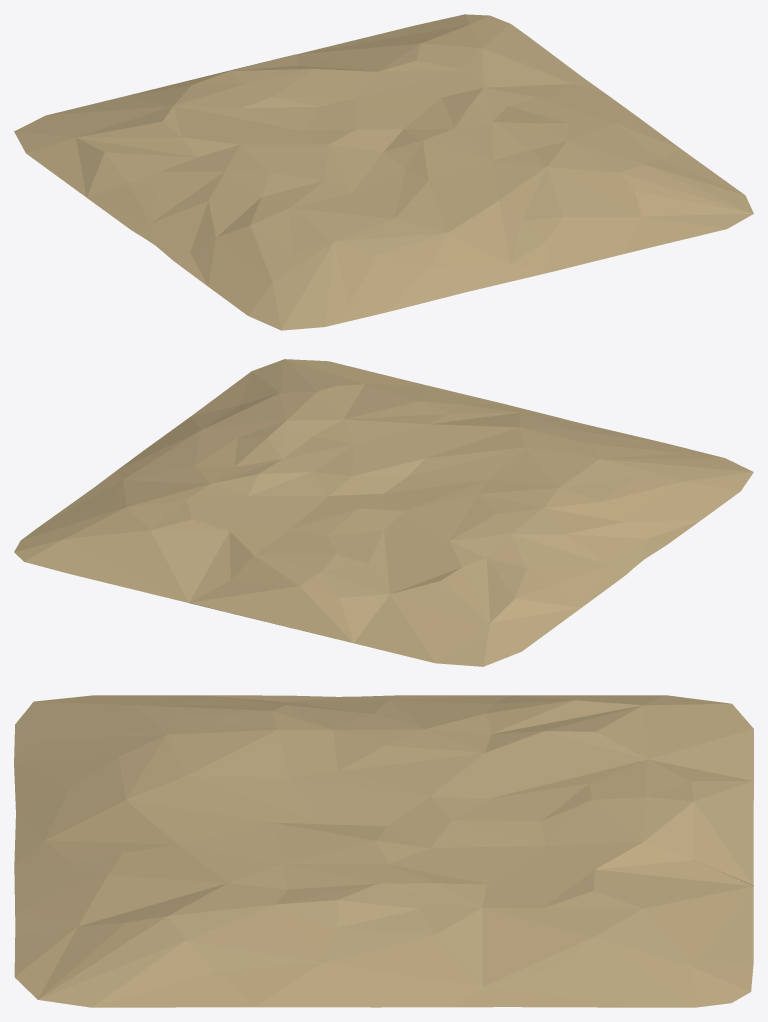
The model's file is SM_Env_Flat_Sand_01.glb.
The picture shows the model from 3 angles, top to bottom: view 1: azimuth 30°, elevation 25°; view 2: azimuth 150°, elevation 25°; view 3: azimuth 270°, elevation 25°; orthographic projection. The views are drawn at different scales.
Visible parts, largest first — view 1: SM_Env_Flat_Sand_01_part00; view 2: SM_Env_Flat_Sand_01_part00; view 3: SM_Env_Flat_Sand_01_part00.
Part boxes in pixels (x1,y1,x2,y2): SM_Env_Flat_Sand_01_part00: [14, 14, 753, 330]; SM_Env_Flat_Sand_01_part00: [14, 359, 753, 666]; SM_Env_Flat_Sand_01_part00: [14, 695, 753, 1007].
Size of the model in its own units: 7.54 by 0.4246 by 7.54.
1 material, 1 textured.
